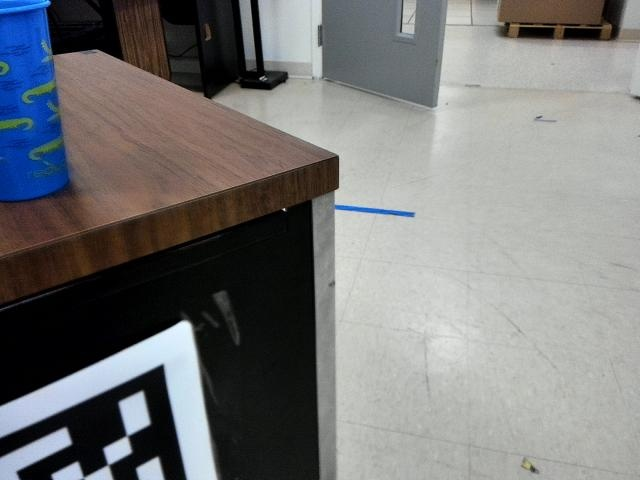water_cup: (1, 1, 75, 206)
